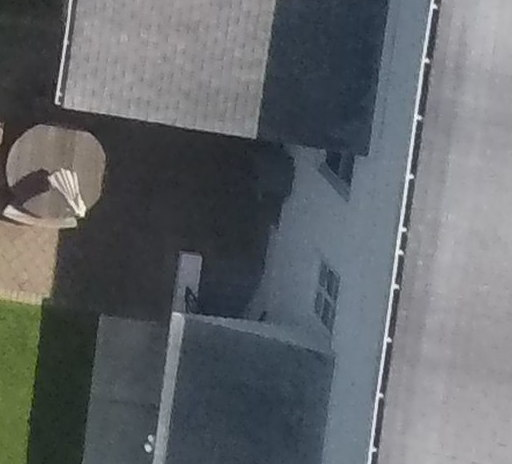table: (1, 117, 137, 214)
